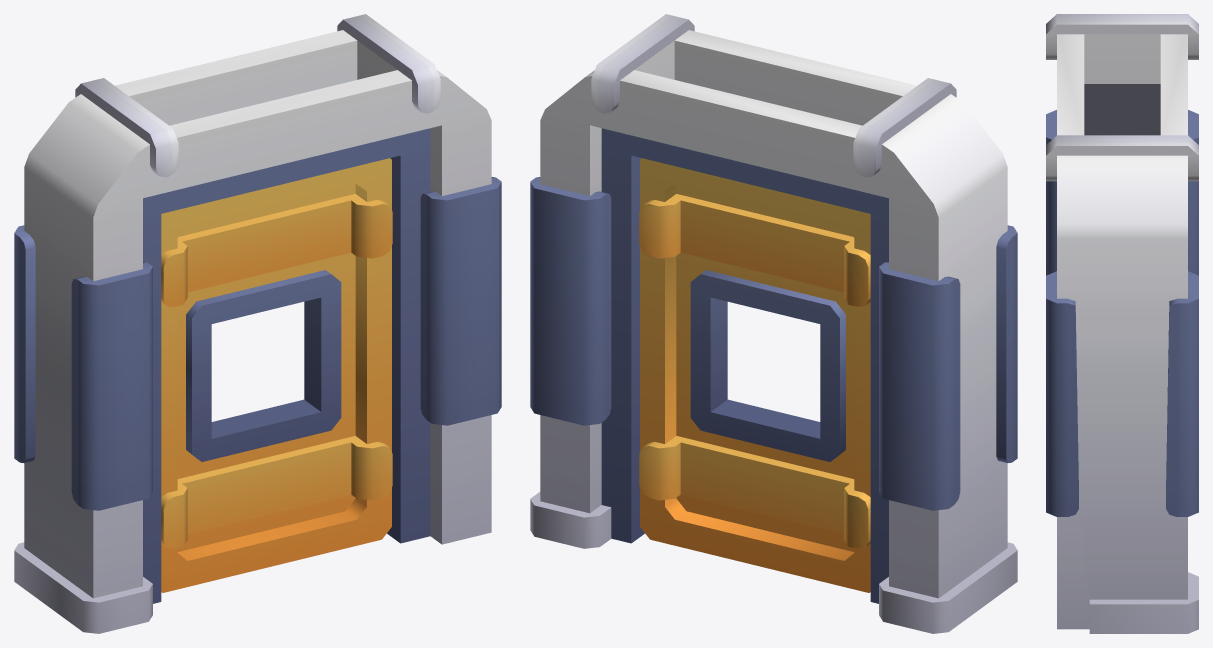
Rendered from gate-door-window.glb.
3 views of the same model, side by side, from view 1: azimuth 30°, elevation 25°; view 2: azimuth 150°, elevation 25°; view 3: azimuth 270°, elevation 25° (orthographic). The views are drawn at different scales.
Parts seen in each view (by area): view 1: gate-door-window, door; view 2: gate-door-window, door; view 3: gate-door-window.
Part boxes in pixels (bbox=[...]): gate-door-window: bbox=[14, 14, 501, 633]; door: bbox=[161, 158, 392, 592]; gate-door-window: bbox=[530, 14, 1017, 633]; door: bbox=[639, 158, 870, 592]; gate-door-window: bbox=[1046, 14, 1198, 633].
Bounding box in the file's own units: 4.2 × 4.62 × 1.4.
Materials: 1 (1 with a texture image).
